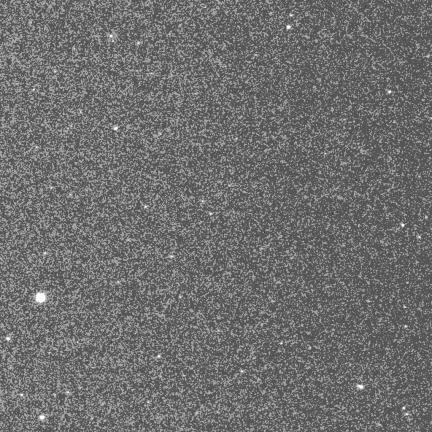blob: (36, 293, 46, 303), (39, 415, 45, 420), (357, 385, 364, 389), (209, 212, 213, 216), (179, 295, 183, 299), (280, 342, 284, 346), (170, 255, 174, 259), (418, 235, 422, 239), (287, 25, 291, 29), (388, 90, 391, 94), (110, 35, 114, 38), (6, 337, 10, 340), (144, 205, 148, 208), (114, 127, 118, 130), (401, 223, 404, 227), (403, 407, 406, 411), (157, 355, 160, 358), (20, 393, 23, 396), (290, 14, 293, 16), (425, 216, 428, 218), (405, 325, 407, 328)
